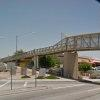Bridge: (7, 32, 98, 76)
